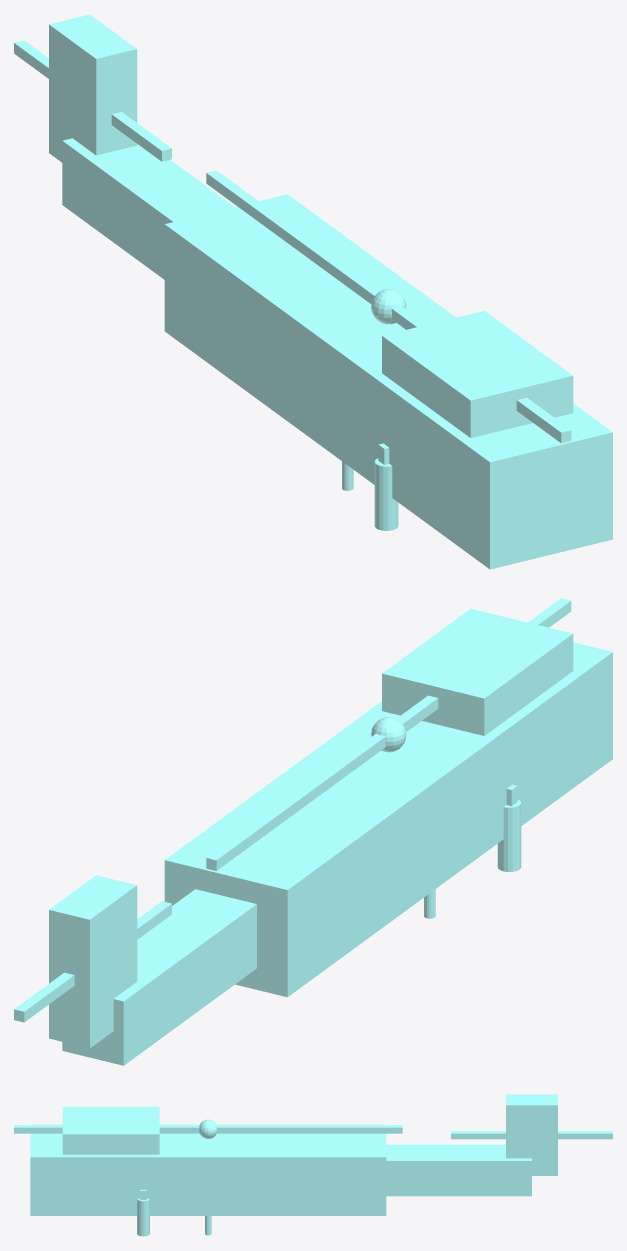
The model's file is armed_helicopter.glb.
The picture shows the model from 3 angles, top to bottom: view 1: azimuth 30°, elevation 25°; view 2: azimuth 150°, elevation 25°; view 3: azimuth 270°, elevation 25°; orthographic projection. The views are drawn at different scales.
Visible parts, largest first — view 1: main_body, cockpit, tail_boom, tail_fin, main_rotor_blade_1, main_rotor_blade_2, tail_rotor_blade_1, missile_2, main_rotor_hub; view 2: main_body, cockpit, tail_boom, tail_fin, main_rotor_blade_1, tail_rotor_blade_1, main_rotor_blade_2, missile_2, main_rotor_hub; view 3: main_body, tail_boom, cockpit, tail_fin, main_rotor_blade_1, tail_rotor_blade_1, missile_1, main_rotor_blade_2, main_rotor_hub.
Part boxes in pixels (bbox=[...]): main_body: bbox=[164, 194, 612, 569]; cockpit: bbox=[382, 310, 573, 437]; tail_boom: bbox=[62, 138, 234, 279]; tail_fin: bbox=[49, 14, 137, 162]; main_rotor_blade_1: bbox=[206, 170, 571, 443]; main_rotor_blade_2: bbox=[208, 171, 570, 442]; tail_rotor_blade_1: bbox=[14, 40, 171, 161]; missile_2: bbox=[374, 458, 398, 530]; main_rotor_hub: bbox=[371, 289, 406, 324]; main_body: bbox=[164, 642, 612, 997]; cockpit: bbox=[382, 608, 573, 735]; tail_boom: bbox=[62, 889, 256, 1065]; tail_fin: bbox=[49, 875, 137, 1048]; main_rotor_blade_1: bbox=[206, 598, 571, 870]; tail_rotor_blade_1: bbox=[14, 901, 171, 1022]; main_rotor_blade_2: bbox=[206, 599, 570, 869]; missile_2: bbox=[497, 799, 521, 871]; main_rotor_hub: bbox=[371, 717, 406, 752]; main_body: bbox=[30, 1124, 386, 1215]; tail_boom: bbox=[386, 1144, 531, 1196]; cockpit: bbox=[62, 1106, 159, 1154]; tail_fin: bbox=[506, 1094, 557, 1175]; main_rotor_blade_1: bbox=[14, 1125, 402, 1133]; tail_rotor_blade_1: bbox=[451, 1131, 612, 1139]; missile_1: bbox=[137, 1198, 149, 1236]; main_rotor_blade_2: bbox=[20, 1125, 402, 1127]; main_rotor_hub: bbox=[199, 1119, 217, 1138].
Bounding box in the file's own units: 1.4 × 2.1 × 9.25.
